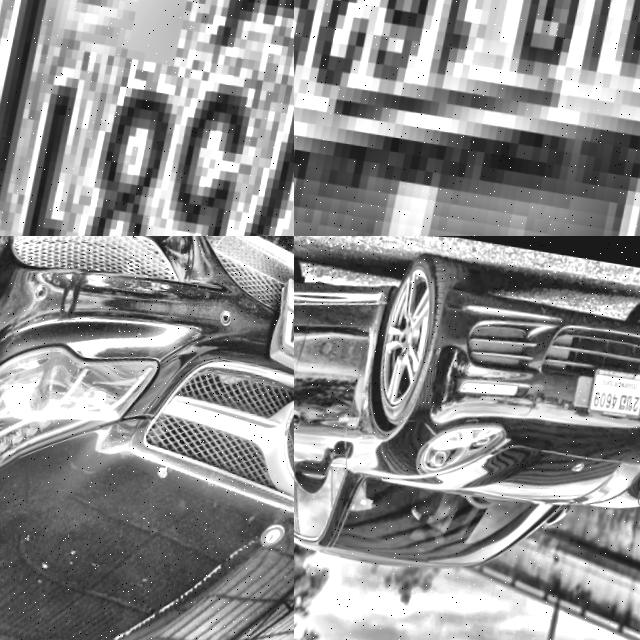license-plate: (294, 0, 640, 236), (0, 0, 294, 236), (265, 266, 294, 401), (589, 362, 640, 418)
